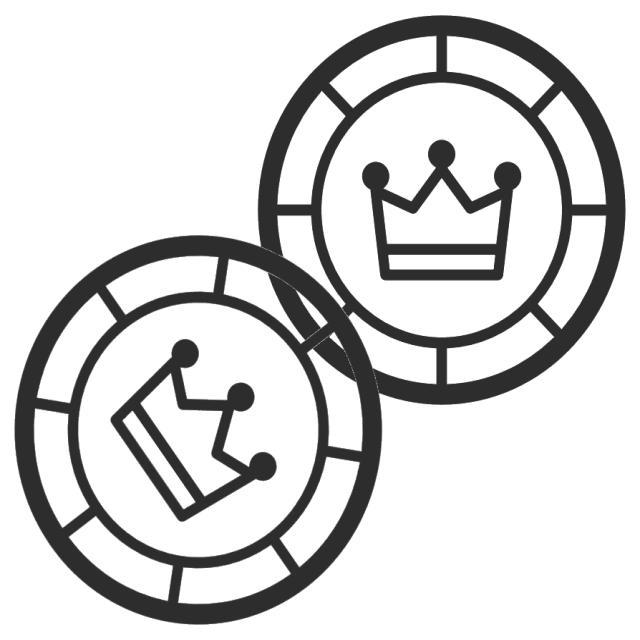coin: (243, 10, 631, 420), (12, 229, 392, 632)
